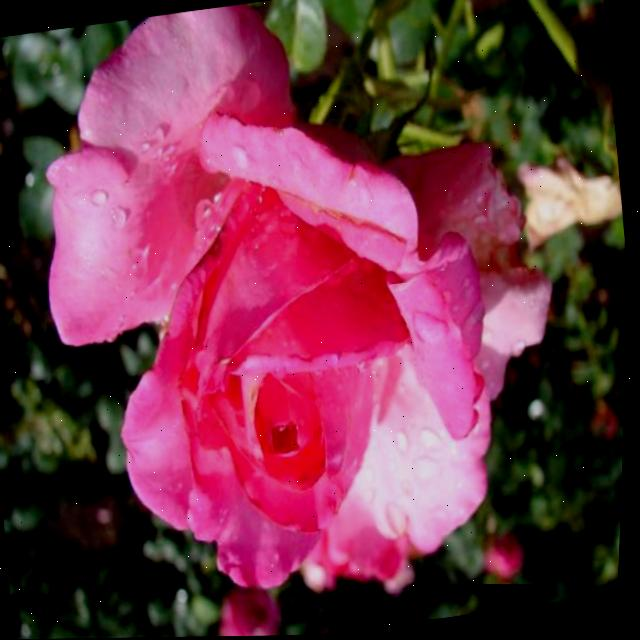rose: (0, 0, 631, 640)
